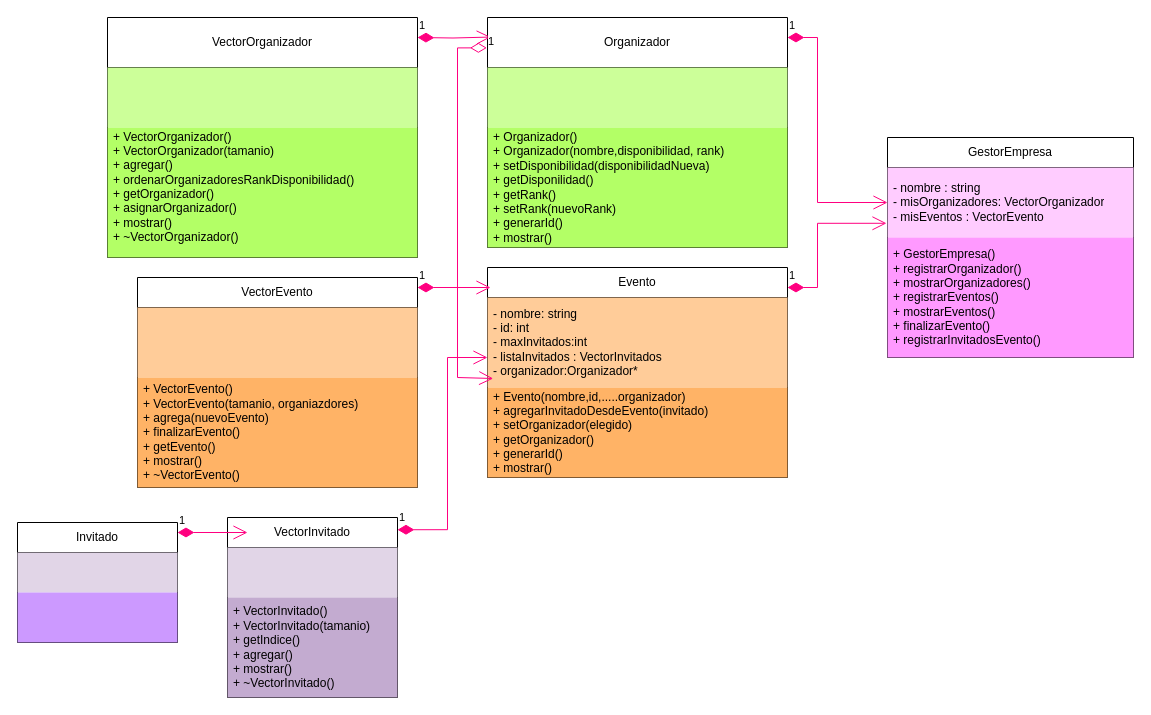
This 1151x715 diagram has some shape labels left out. The centre of each missing label's shape, as x and y in pixels:
"+ Invitado(nombre,telefono) + mostrar()" goes at [97,617].
"- nombre : string - id: int - disponibilidad: bool - rank: int" goes at [637,97].
"- nombre: stiring - telefono: string" goes at [97,572].
"- tamanio: int - indice: int - invitados: Invitado**" goes at [312,572].
"- tamanio: int - indice: int - organizadores: Organizador**" goes at [262,97].
"tamanio: int indice: int eventos: Evento** organizadores Organizador*" goes at [277,342].
